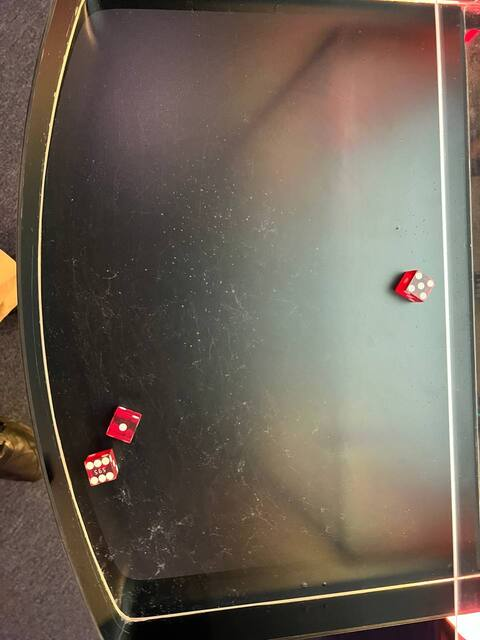five: (403, 268, 438, 305)
one: (104, 410, 141, 443)
six: (82, 453, 119, 488)
